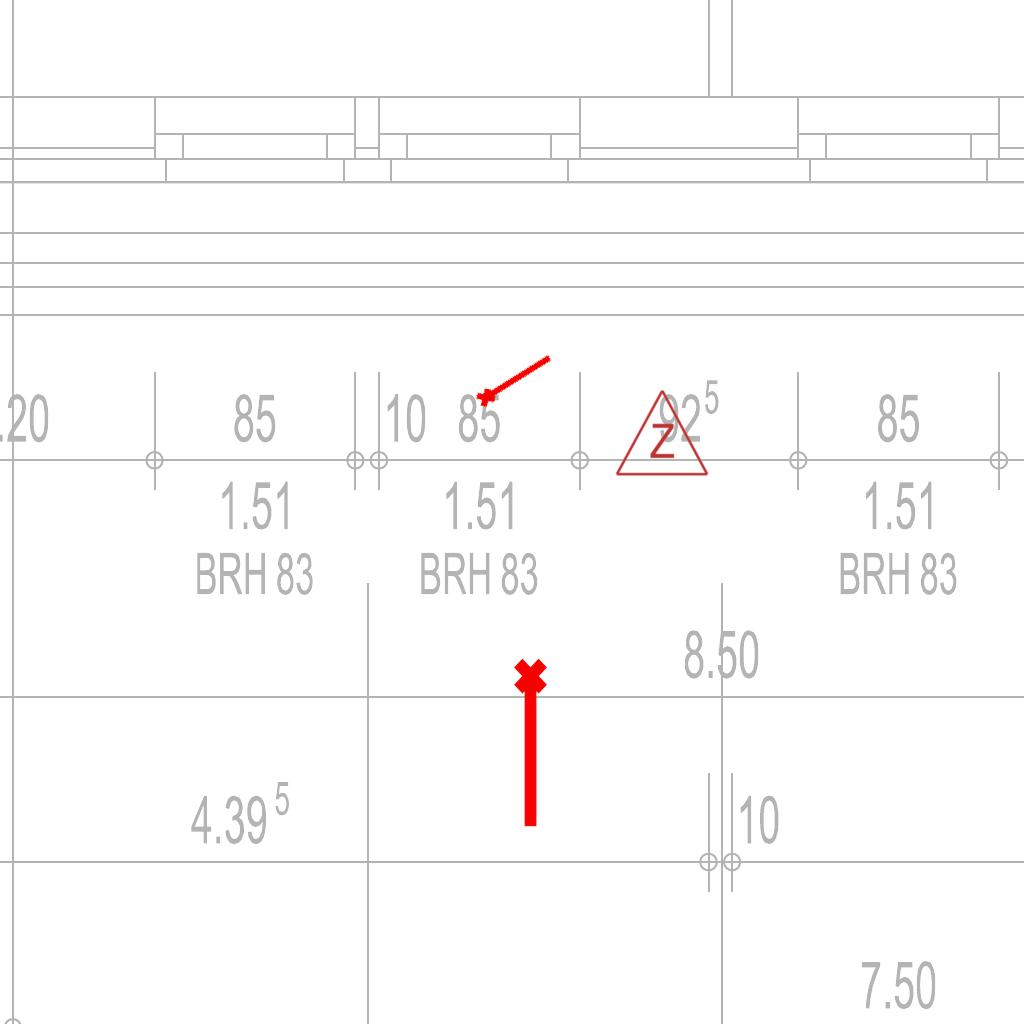ASR_Ansaugoeffnung: (510, 656, 556, 832), (470, 345, 558, 412)
Zimmersignalleuchte: (612, 383, 710, 483)
